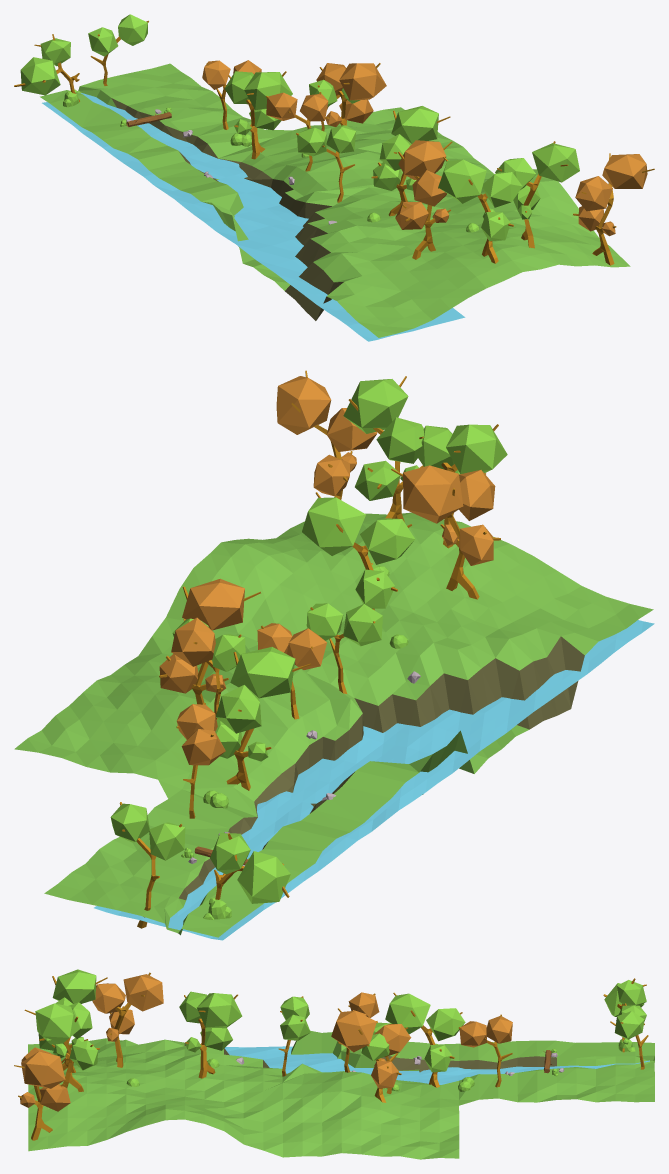
File: Escenario_01.fbx
3 renders of one model, top to bottom at view 1: azimuth 30°, elevation 25°; view 2: azimuth 150°, elevation 25°; view 3: azimuth 270°, elevation 25°, orthographic. The views are drawn at different scales.
Parts seen in each view (by area): view 1: Escenario1Completo; view 2: Escenario1Completo; view 3: Escenario1Completo.
Boxes of the visible parts, x1,y1,x2,y2 form: Escenario1Completo: [14, 14, 654, 341]; Escenario1Completo: [14, 370, 654, 940]; Escenario1Completo: [14, 969, 654, 1159].
Size of the model in its own units: 7133 by 3739 by 13091.
